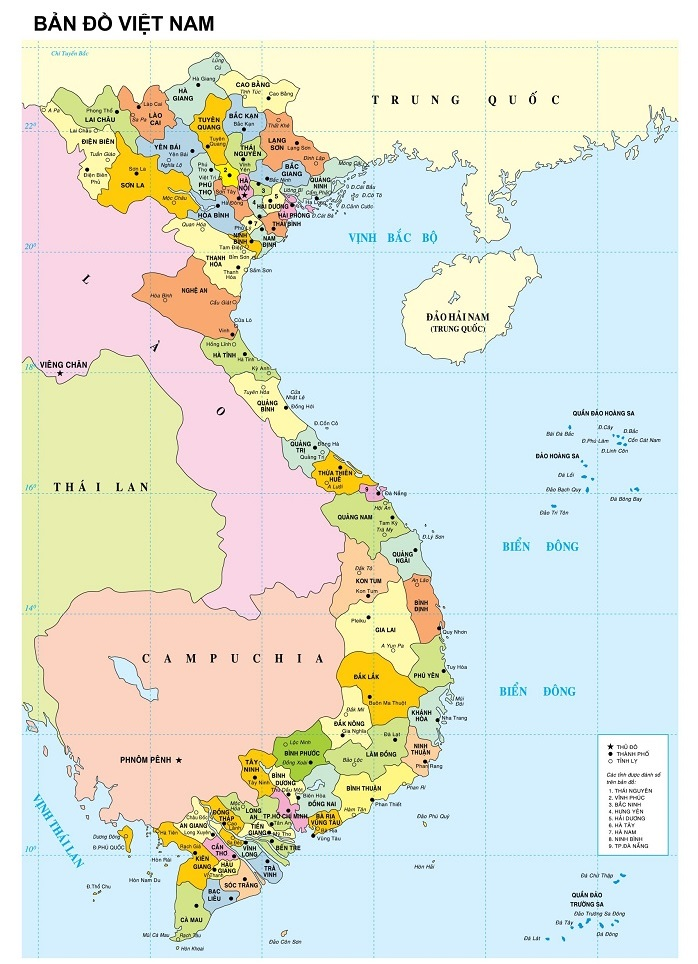Island: (527, 392, 668, 524), (519, 869, 654, 954)
